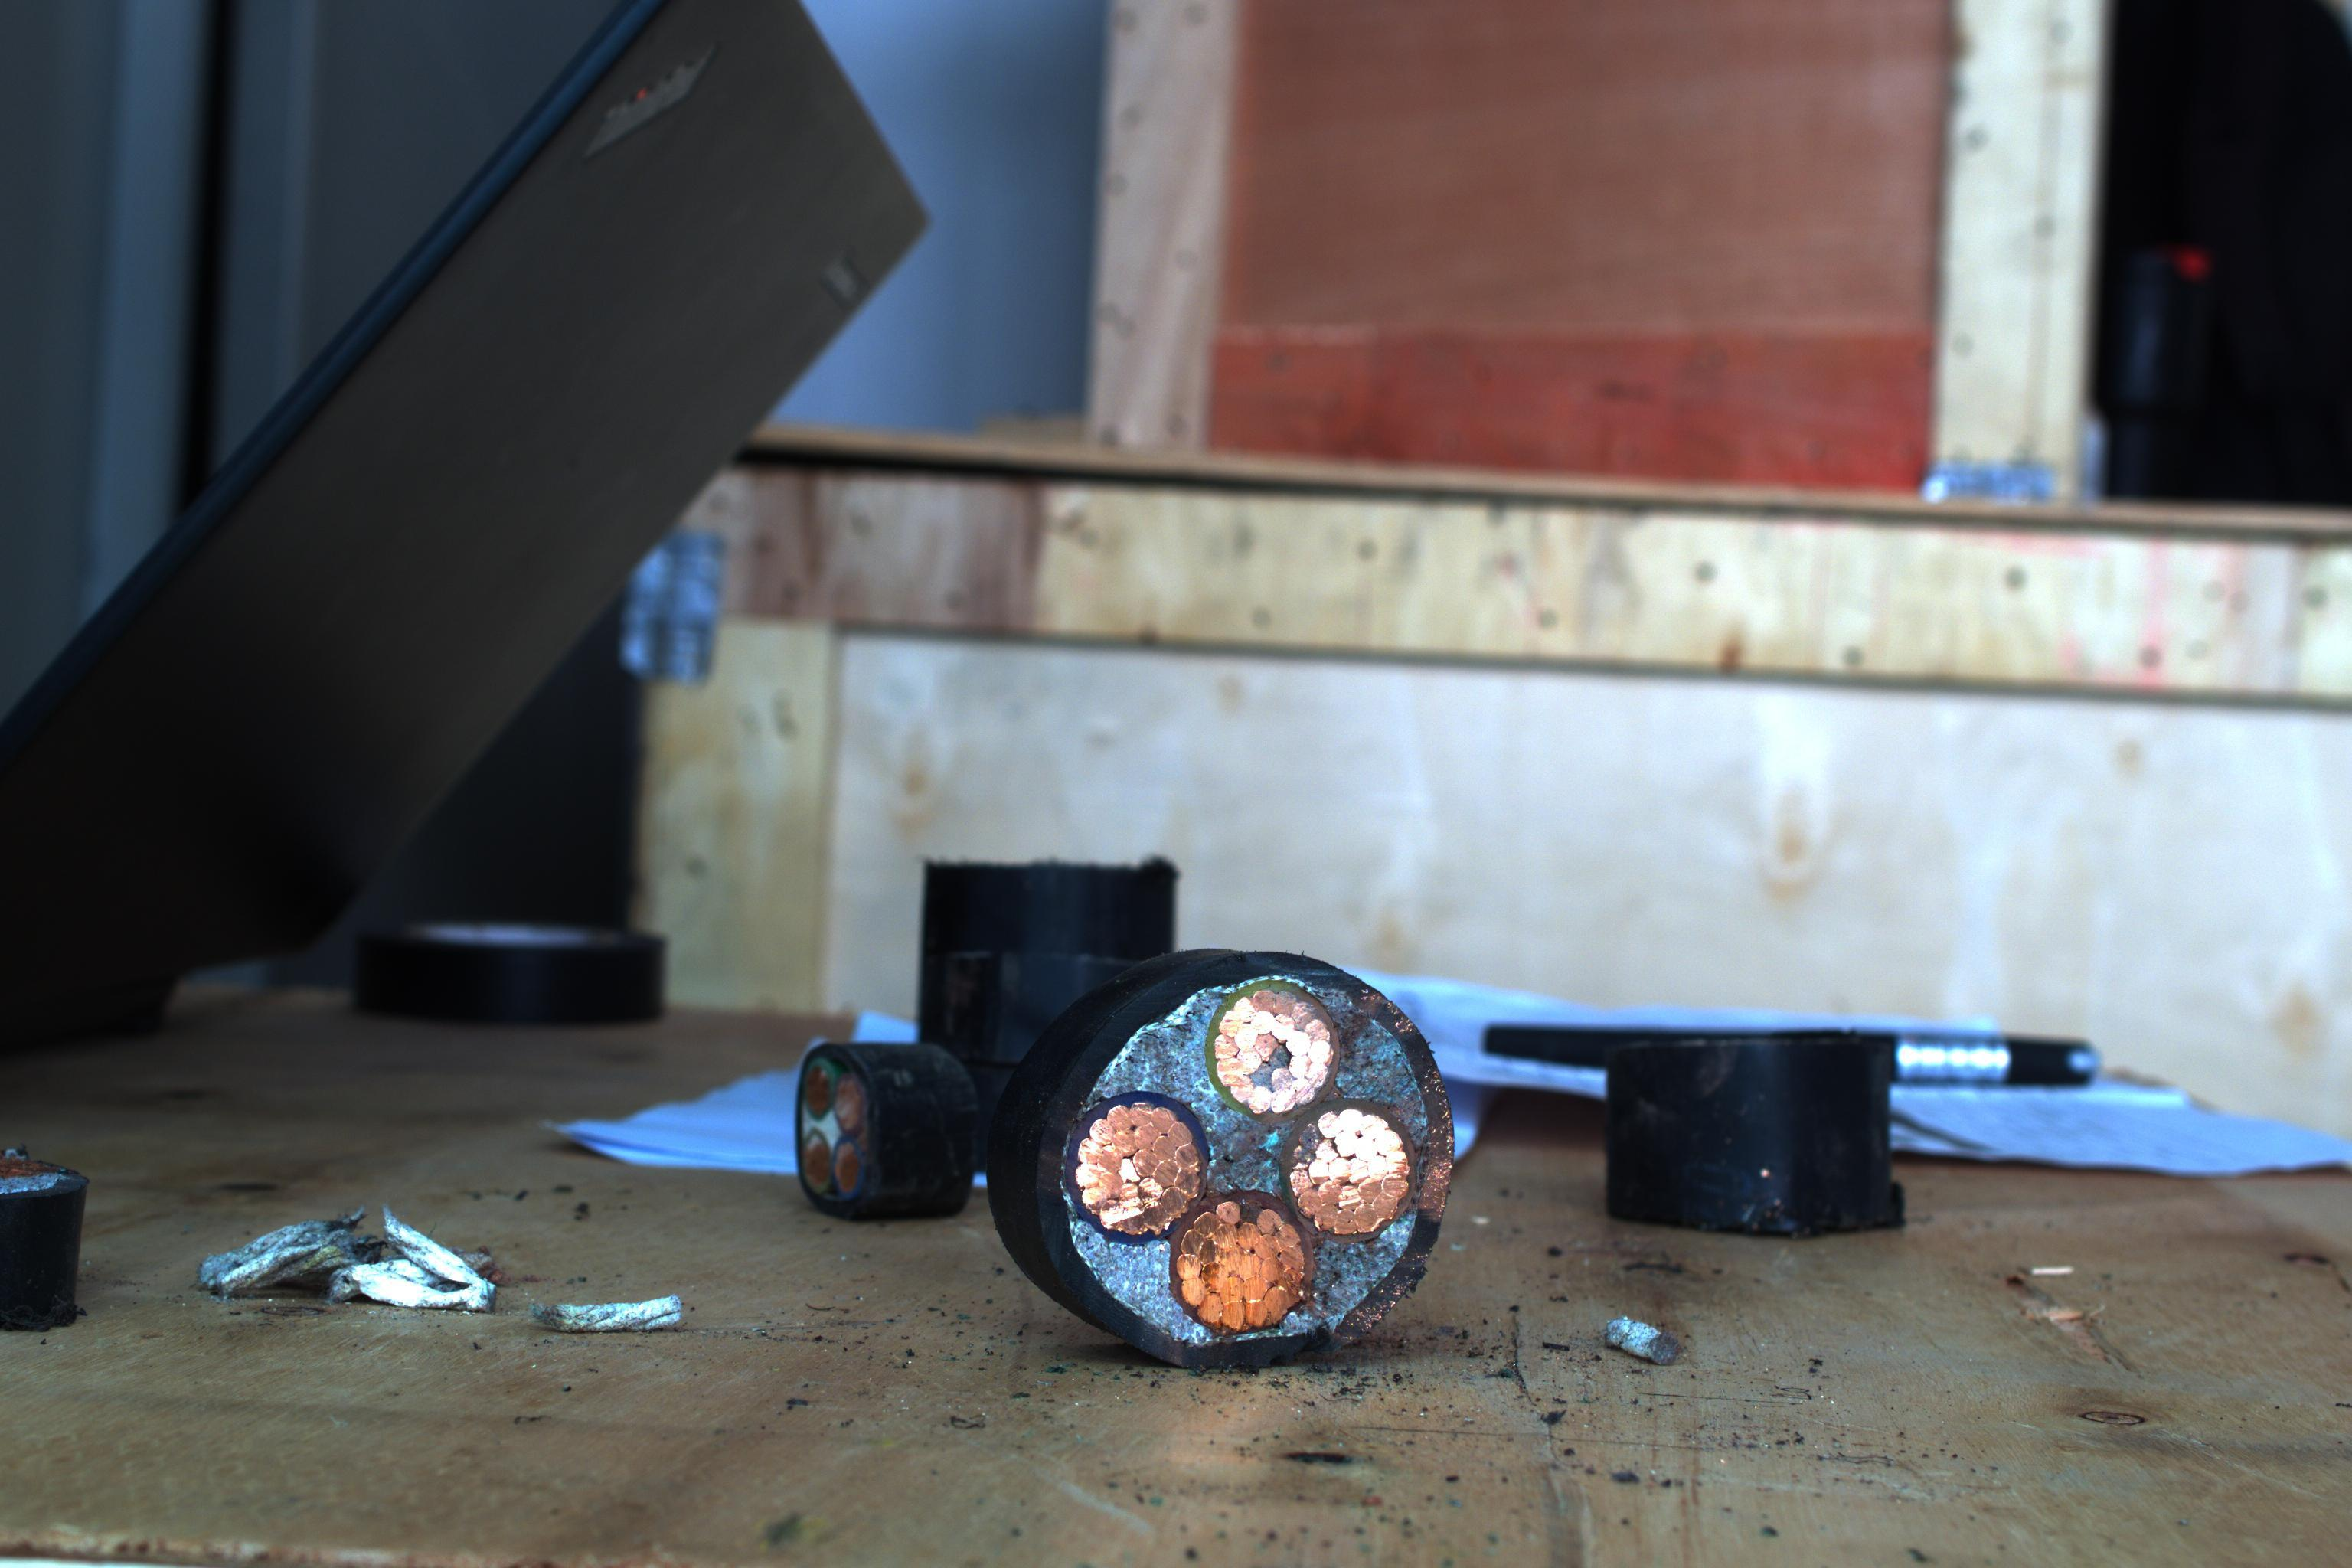YJV_0.6_1kV_4x120: (1057, 919, 1472, 1360)
